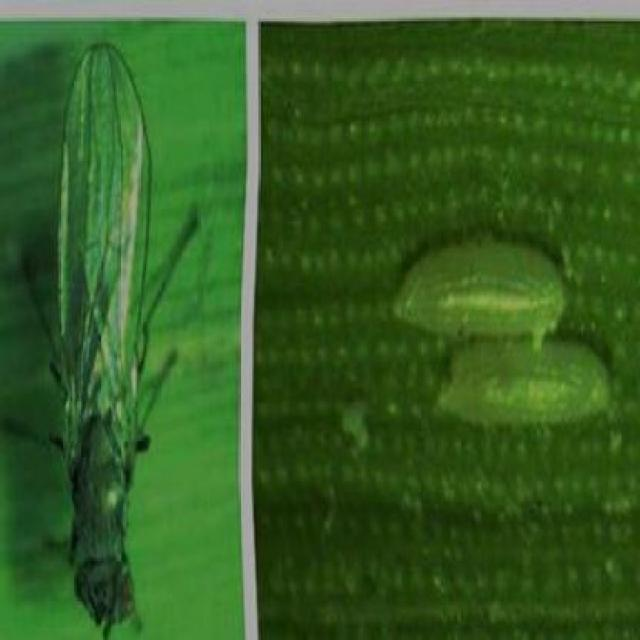whorl-maggot: (385, 232, 572, 343), (428, 334, 624, 437)
